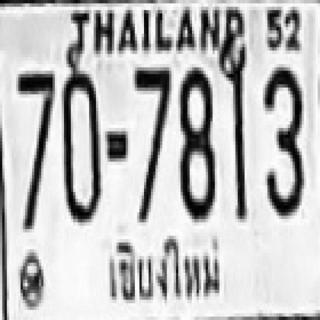N00: (61, 69, 99, 220)
N01: (220, 37, 247, 172)
N03: (263, 64, 302, 216)
N07: (16, 67, 52, 226), (132, 66, 169, 217), (132, 64, 169, 202), (132, 64, 169, 175), (132, 64, 169, 162)
N08: (178, 66, 215, 217)
P11: (95, 232, 227, 303)
